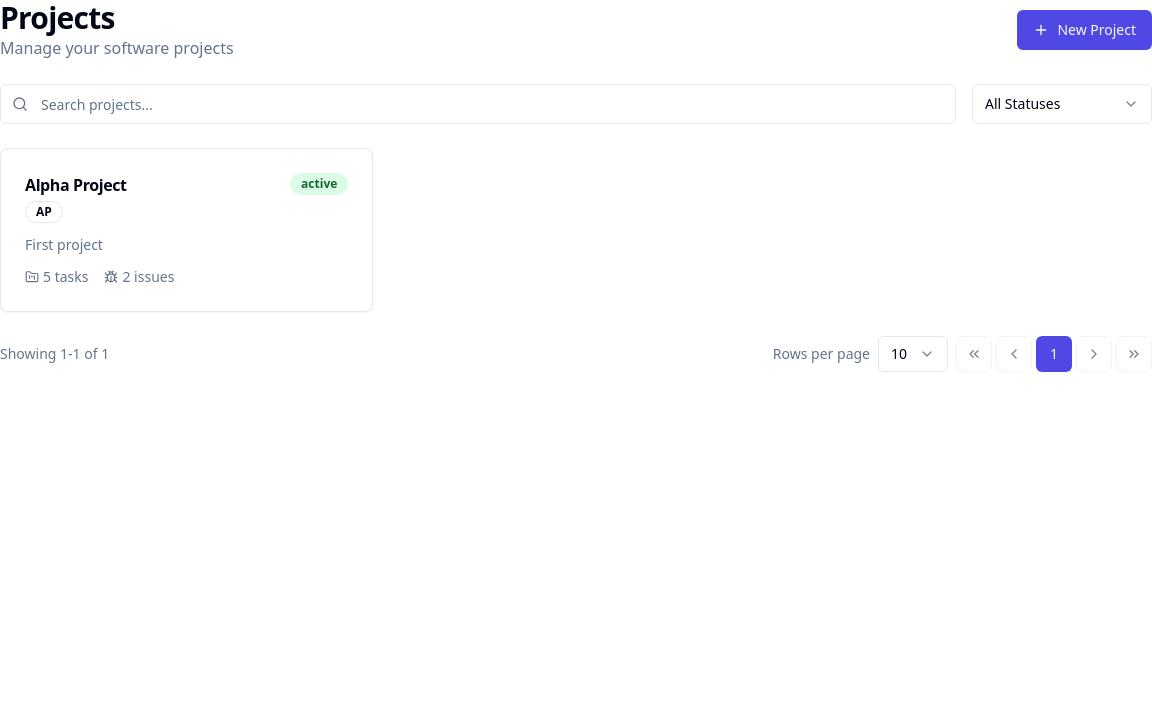
Scenario: ProjectsPage › should open create project dialog when New Project button is clicked
The image size is (1152, 720).
Check: the heading "Alpha Project" is shown, box 25,173 -> 127,197
Click the button "New Project" at coordinates (1085, 30), box 1017,10 -> 1151,50
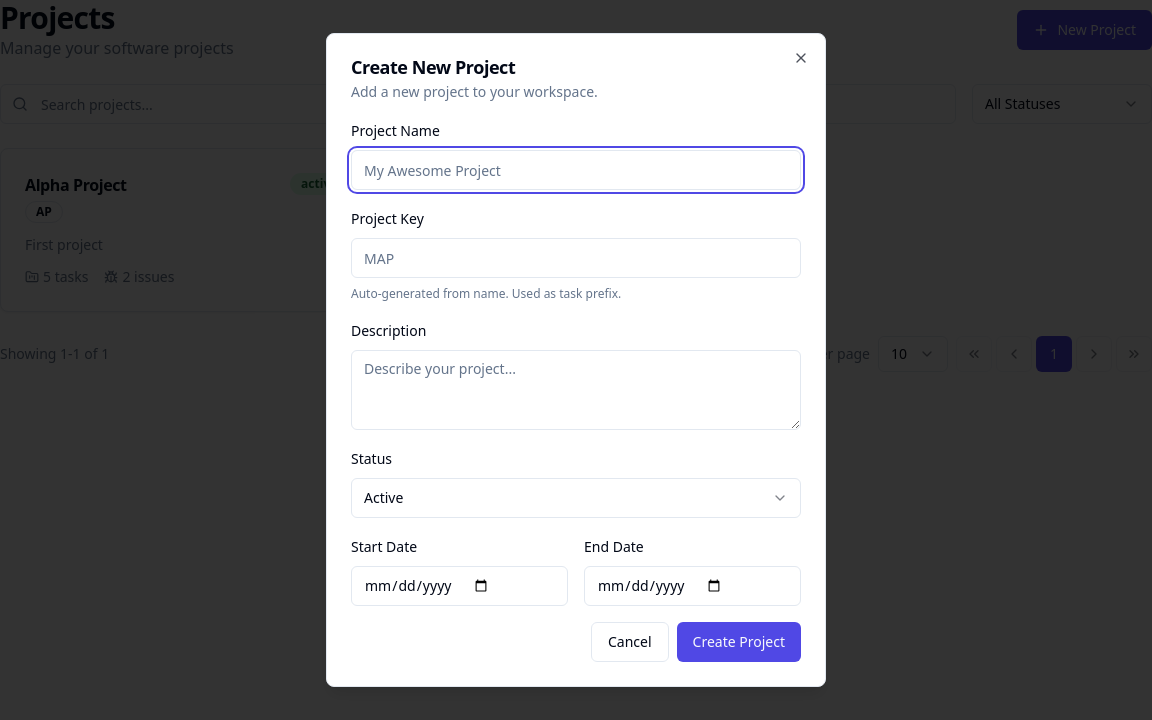
Check: the heading "Create New Project" is shown, box 351,55 -> 515,79
Check: the button "Create Project" is shown, box 677,622 -> 801,662
